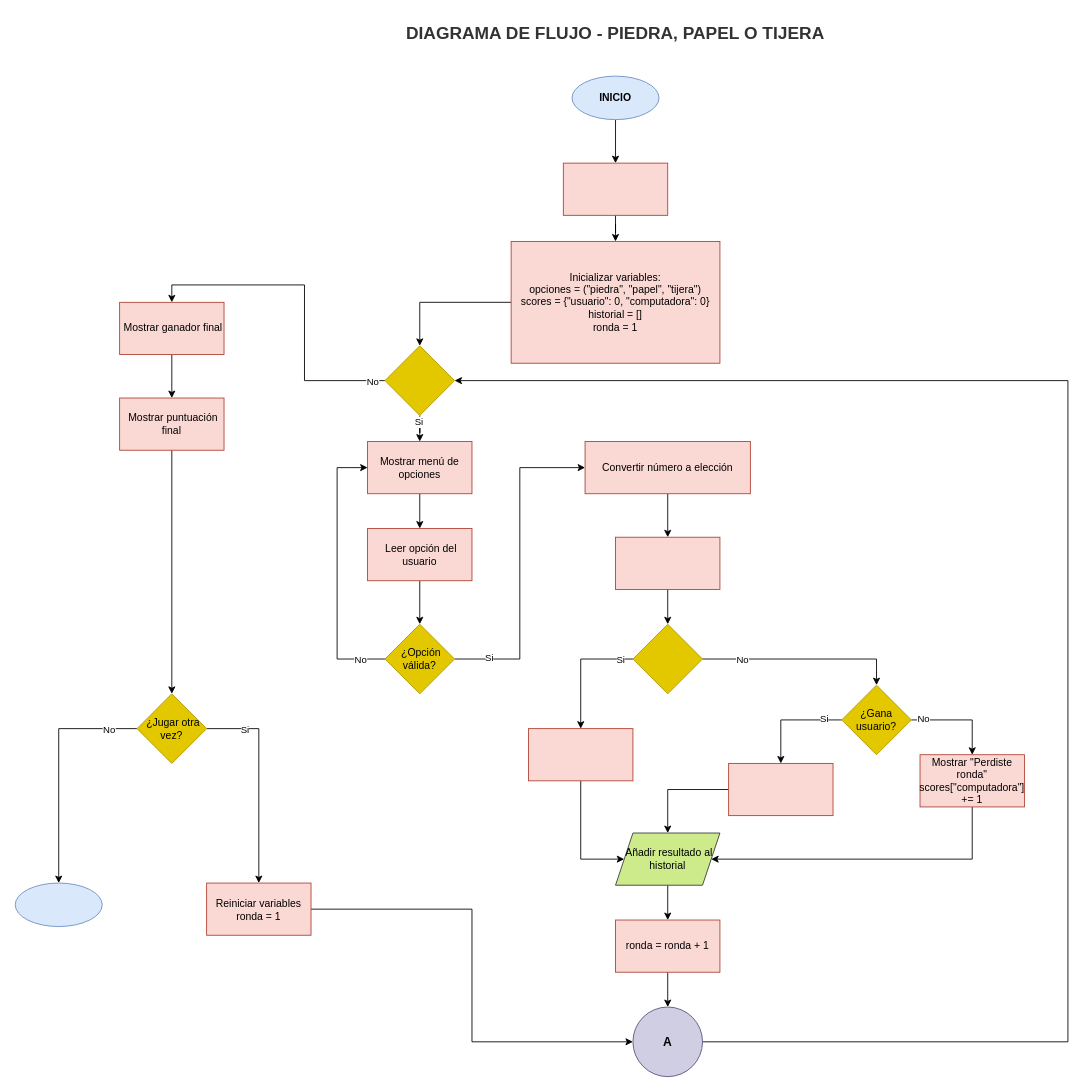
Some shapes in this 1090 by 1092 pixel diagram are drawn without their labels. The shapes that lost their labels are listed below. From the top down, each one's box as (x1, y1, x2, y2) in pixels, then its label:
(562, 162, 668, 215): Mostrar mensaje de bienvenida
(384, 345, 455, 415): ¿ronda <= 5?
(615, 536, 720, 589): Generar elección aleatoria de la computadora
(632, 623, 703, 694): ¿Son iguales?
(528, 728, 633, 781): Mostrar "Empate"
(728, 763, 833, 816): Mostrar "Ganaste ronda" scores["usuario"] += 1
(14, 882, 102, 927): FIN
